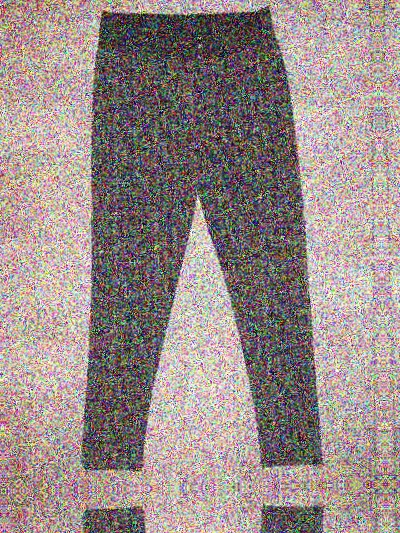Pants: (50, 0, 356, 477), (59, 499, 365, 533)
